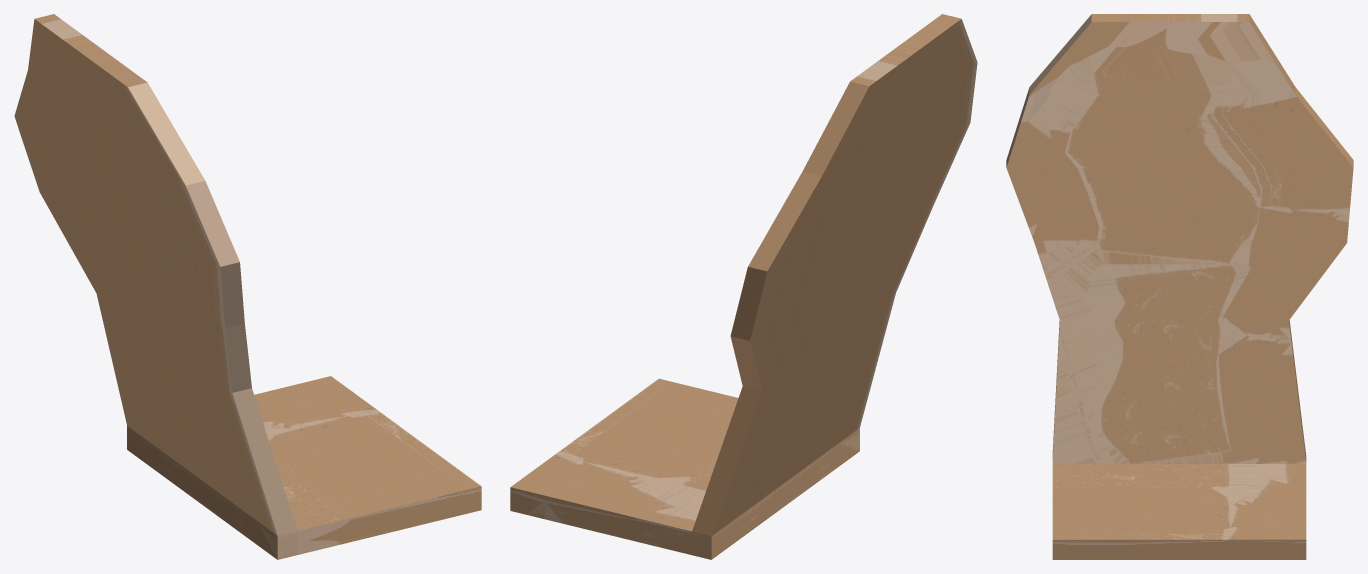
The model's file is ZombieBase.fbx.
The picture shows the model from 3 angles, left to right: view 1: azimuth 30°, elevation 25°; view 2: azimuth 150°, elevation 25°; view 3: azimuth 270°, elevation 25°; orthographic projection. The views are drawn at different scales.
Parts seen in each view (by area): view 1: ParteRotacional, BaseInimigo; view 2: ParteRotacional, BaseInimigo; view 3: ParteRotacional, BaseInimigo.
Boxes of the visible parts, bbox=[...] form: ParteRotacional: bbox=[14, 14, 297, 559]; BaseInimigo: bbox=[254, 376, 481, 554]; ParteRotacional: bbox=[692, 14, 977, 559]; BaseInimigo: bbox=[510, 378, 738, 554]; ParteRotacional: bbox=[1006, 14, 1353, 463]; BaseInimigo: bbox=[1052, 464, 1306, 559].
Size of the model in its own units: 253 by 357 by 274.
